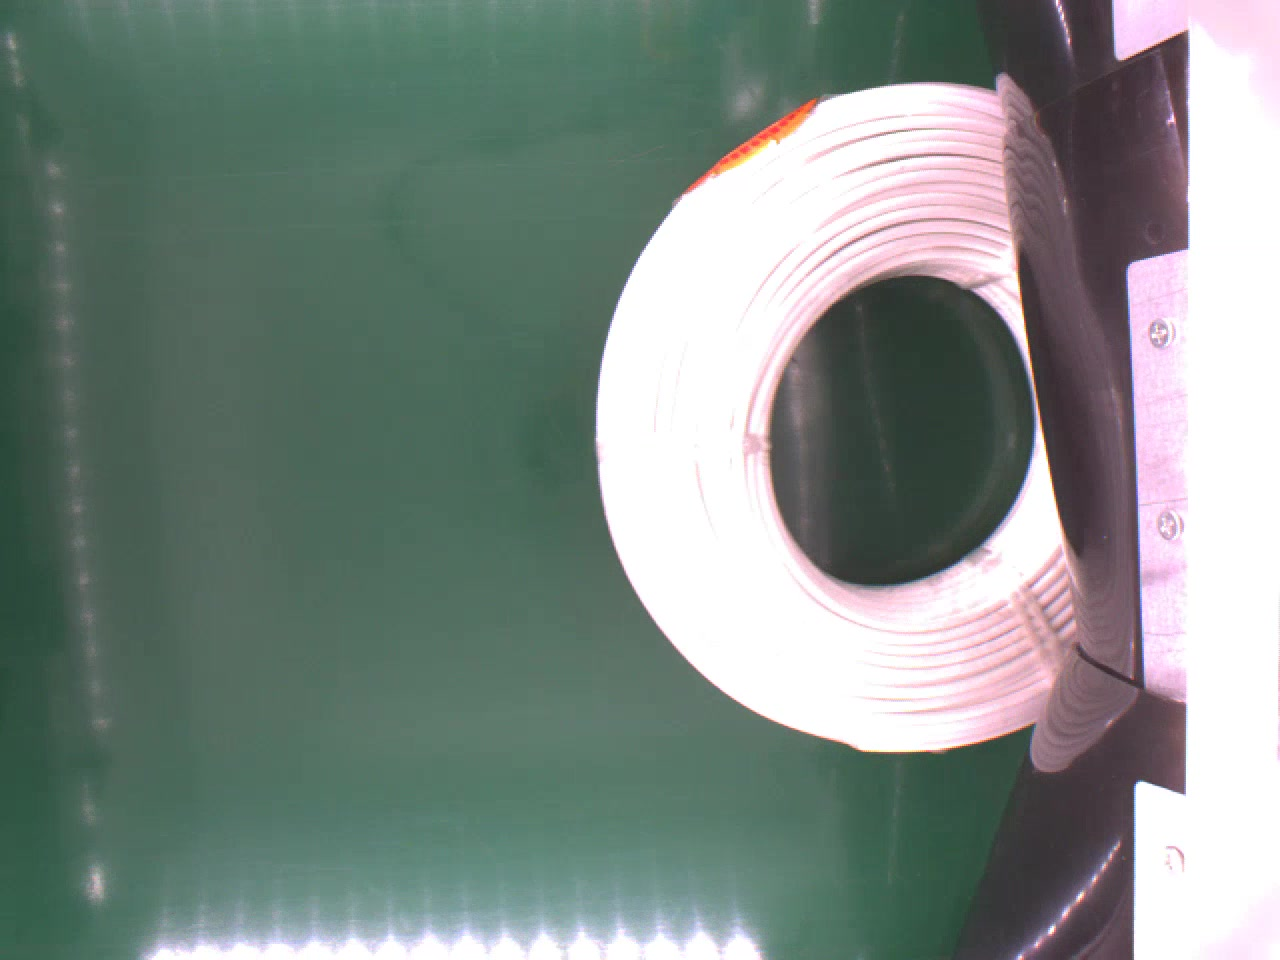white: (590, 81, 1079, 758)
